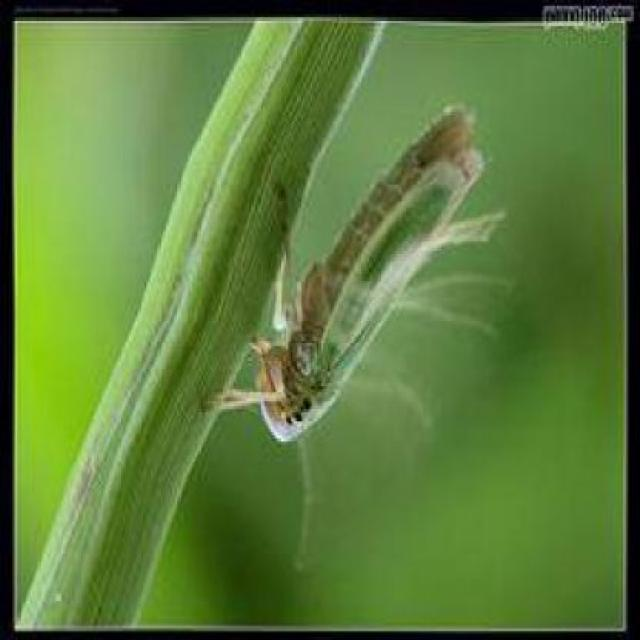green-leafhopper: (247, 103, 496, 468)
